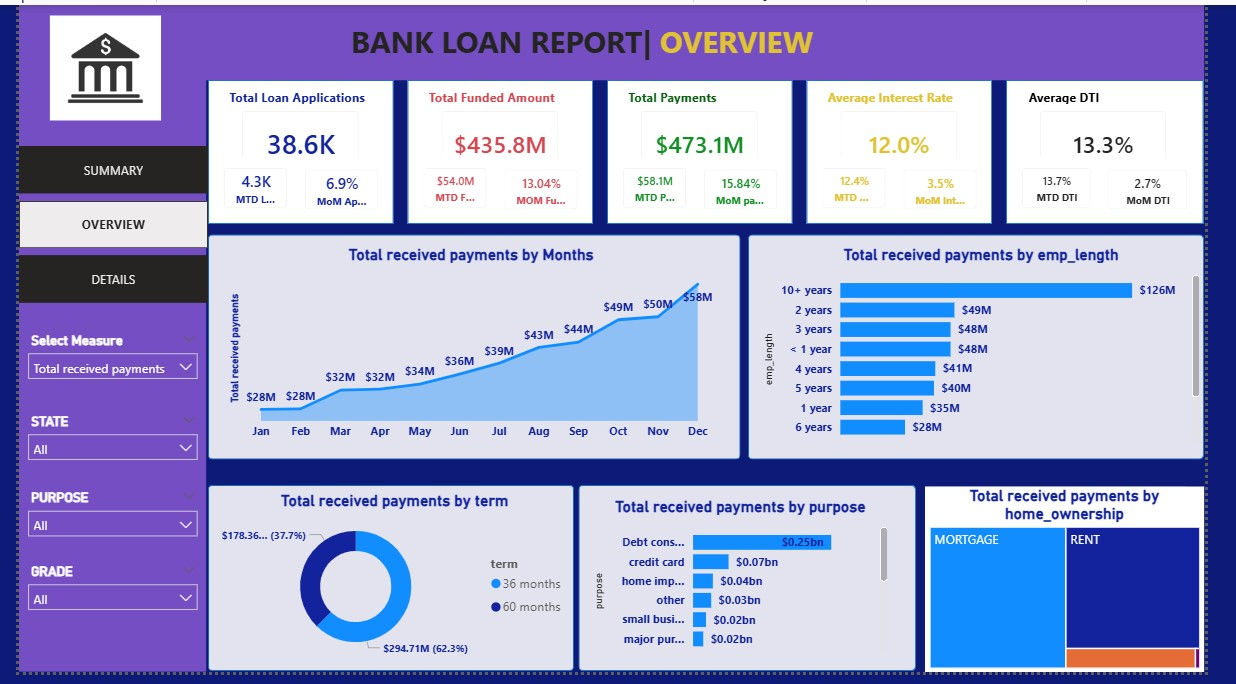

This screenshot's page, from the dashboard's own definition file:
{"tool":"powerbi","page":{"name":"OVERVIEW","canvas":[1280,720],"ordinal":1},"visuals":[{"type":"shape","box":[0,81.3,202.2,638.7],"z":0},{"type":"cardVisual","fields":{"Data":["ANALYSIS.Total Loan Apps"]},"box":[222.9,98,160.6,101],"z":0,"group":"g3"},{"type":"cardVisual","fields":{"Data":["ANALYSIS.Total Funded Amount"]},"box":[438.3,98,160.6,101],"z":0,"group":"g4"},{"type":"cardVisual","fields":{"Data":["ANALYSIS.Total received payments"]},"box":[653.6,98,160.6,101],"z":0,"group":"g5"},{"type":"cardVisual","fields":{"Data":["ANALYSIS.AVERAGE Interest Rate"]},"box":[869,98,160.6,101],"z":0,"group":"g6"},{"type":"cardVisual","fields":{"Data":["ANALYSIS.Average Dti"]},"box":[1085.6,98,171,101],"z":0,"group":"g7"},{"type":"shape","box":[0,0,1279.4,81.3],"z":1000},{"type":"textbox","box":[222,84.7,166.8,28],"z":1000,"group":"g3"},{"type":"textbox","box":[437.4,84.7,166.8,28],"z":1000,"group":"g4"},{"type":"textbox","box":[652.7,84.7,166.8,28],"z":1000,"group":"g5"},{"type":"textbox","box":[868.1,84.7,166.8,28],"z":1000,"group":"g6"},{"type":"textbox","box":[1084.7,84.7,177.5,28],"z":1000,"group":"g7"},{"type":"textbox","box":[353.4,11.3,521.6,60.5],"z":2000},{"type":"cardVisual","fields":{"Data":["ANALYSIS.MTD Loan Apps"]},"box":[204.2,159.2,102,77.2],"z":2000,"group":"g3"},{"type":"cardVisual","fields":{"Data":["ANALYSIS.MTD Funded Amount"]},"box":[419.6,159.2,102,77.2],"z":2000,"group":"g4"},{"type":"cardVisual","fields":{"Data":["ANALYSIS.MTD Payments"]},"box":[634.9,159.2,102,77.2],"z":2000,"group":"g5"},{"type":"cardVisual","fields":{"Data":["ANALYSIS.MTD Avg Interest"]},"box":[850.3,159.2,102,77.2],"z":2000,"group":"g6"},{"type":"cardVisual","fields":{"Data":["ANALYSIS.MTD DTI"]},"box":[1065.7,159.2,108.6,77.2],"z":2000,"group":"g7"},{"type":"group","id":"g1","title":"Group 2","box":[204,81,200.8,157.1],"z":3000},{"type":"shape","box":[204,81,200.3,155.3],"z":3000,"group":"g1"},{"type":"shape","box":[419.4,81,200.3,155.3],"z":3000,"group":"g2"},{"type":"shape","box":[634.7,81,200.3,155.3],"z":3000,"group":"g8"},{"type":"shape","box":[850.1,81,200.3,155.3],"z":3000,"group":"g9"},{"type":"shape","box":[1065.5,81,213.2,155.3],"z":3000,"group":"g10"},{"type":"cardVisual","fields":{"Data":["ANALYSIS.MoM Apps"]},"box":[291.6,160.6,113.3,77.2],"z":3000,"group":"g3"},{"type":"cardVisual","fields":{"Data":["ANALYSIS.MOM Funded Amount"]},"box":[507,160.6,113.3,77.2],"z":3000,"group":"g4"},{"type":"cardVisual","fields":{"Data":["ANALYSIS.MoM payments"]},"box":[722.3,160.6,113.3,77.2],"z":3000,"group":"g5"},{"type":"cardVisual","fields":{"Data":["ANALYSIS.MoM Interest Rate"]},"box":[937.7,160.6,113.3,77.2],"z":3000,"group":"g6"},{"type":"cardVisual","fields":{"Data":["ANALYSIS.MoM DTI"]},"box":[1158.8,160.6,120.7,77.2],"z":3000,"group":"g7"},{"type":"group","id":"g2","title":"Group 2","box":[419.4,81,200.8,157.1],"z":4000},{"type":"group","id":"g3","title":"Group 1","box":[204.2,84.7,200.8,153.1],"z":4005,"group":"g1"},{"type":"group","id":"g4","title":"Group 1","box":[419.6,84.7,200.8,153.1],"z":4005,"group":"g2"},{"type":"group","id":"g5","title":"Group 1","box":[634.9,84.7,200.8,153.1],"z":4005,"group":"g8"},{"type":"group","id":"g6","title":"Group 1","box":[850.3,84.7,200.8,153.1],"z":4005,"group":"g9"},{"type":"group","id":"g7","title":"Group 1","box":[1065.7,84.7,213.7,153.1],"z":4005,"group":"g10"},{"type":"group","id":"g8","title":"Group 2","box":[634.7,81,200.8,157.1],"z":5000},{"type":"group","id":"g9","title":"Group 2","box":[850.1,81,200.8,157.1],"z":6000},{"type":"group","id":"g10","title":"Group 2","box":[1065.5,81,213.7,157.1],"z":7000},{"type":"slicer","fields":{"Values":["loan.address_state"]},"box":[0,435.6,202.4,61.5],"z":8000},{"type":"slicer","fields":{"Values":["loan.grade"]},"box":[0,597.5,202.4,61.5],"z":9000},{"type":"slicer","fields":{"Values":["loan.purpose"]},"box":[0,518.2,202.4,61.5],"z":10000},{"type":"shape","box":[204,247.7,574.8,242.9],"z":11000},{"type":"lineChart","fields":{"Y":["ANALYSIS.Total received payments"],"Category":["DATE table.Months"]},"box":[221.8,259.1,532.7,218.6],"z":12000},{"type":"slicer","fields":{"Values":["Select Measure.Select Measure"]},"box":[0,348.1,202.4,74.5],"z":13000},{"type":"shape","box":[204,518.2,395.1,200.8],"z":14000},{"type":"donutChart","fields":{"Y":["ANALYSIS.Total received payments"],"Category":["loan.term"]},"box":[212.1,524.6,387,186.2],"z":15000},{"type":"shape","box":[786.9,247.7,492.2,242.9],"z":16000},{"type":"clusteredBarChart","fields":{"Y":["ANALYSIS.Total received payments"],"Category":["loan.emp_length"]},"box":[798.3,259.1,480.9,218.6],"z":17000},{"type":"shape","box":[604,518.2,364.3,200.8],"z":18000},{"type":"clusteredBarChart","fields":{"Y":["ANALYSIS.Total received payments"],"Category":["loan.purpose"]},"box":[615.3,531.1,327.1,174.9],"z":19000},{"type":"shape","box":[978,519.8,285,200.8],"z":20000},{"type":"treemap","fields":{"Values":["ANALYSIS.Total received payments"],"Group":["loan.home_ownership"]},"box":[978,519.8,301.2,200.8],"z":21000},{"type":"pageNavigator","box":[0,152.2,204,171.6],"z":21001},{"type":"image","box":[0,11.3,186.2,113.3],"z":21002}]}

Visuals, with their boxes in screenshot pixels (x1, y1, x2, y2), scaled from the page's 1280x720 canvas onto the 1236x684 screenshot:
shape: [0, 77, 195, 683]
cardVisual - ANALYSIS.Total Loan Apps: [215, 93, 370, 189]
cardVisual - ANALYSIS.Total Funded Amount: [423, 93, 578, 189]
cardVisual - ANALYSIS.Total received payments: [631, 93, 786, 189]
cardVisual - ANALYSIS.AVERAGE Interest Rate: [839, 93, 994, 189]
cardVisual - ANALYSIS.Average Dti: [1048, 93, 1213, 189]
shape: [0, 0, 1235, 77]
textbox: [214, 80, 375, 107]
textbox: [422, 80, 583, 107]
textbox: [630, 80, 791, 107]
textbox: [838, 80, 999, 107]
textbox: [1047, 80, 1219, 107]
textbox: [341, 11, 845, 68]
cardVisual - ANALYSIS.MTD Loan Apps: [197, 151, 296, 225]
cardVisual - ANALYSIS.MTD Funded Amount: [405, 151, 504, 225]
cardVisual - ANALYSIS.MTD Payments: [613, 151, 712, 225]
cardVisual - ANALYSIS.MTD Avg Interest: [821, 151, 920, 225]
cardVisual - ANALYSIS.MTD DTI: [1029, 151, 1134, 225]
"Group 2" group: [197, 77, 391, 226]
shape: [197, 77, 390, 224]
shape: [405, 77, 598, 224]
shape: [613, 77, 806, 224]
shape: [821, 77, 1014, 224]
shape: [1029, 77, 1235, 224]
cardVisual - ANALYSIS.MoM Apps: [282, 153, 391, 226]
cardVisual - ANALYSIS.MOM Funded Amount: [490, 153, 599, 226]
cardVisual - ANALYSIS.MoM payments: [697, 153, 807, 226]
cardVisual - ANALYSIS.MoM Interest Rate: [905, 153, 1015, 226]
cardVisual - ANALYSIS.MoM DTI: [1119, 153, 1235, 226]
"Group 2" group: [405, 77, 599, 226]
"Group 1" group: [197, 80, 391, 226]
"Group 1" group: [405, 80, 599, 226]
"Group 1" group: [613, 80, 807, 226]
"Group 1" group: [821, 80, 1015, 226]
"Group 1" group: [1029, 80, 1235, 226]
"Group 2" group: [613, 77, 807, 226]
"Group 2" group: [821, 77, 1015, 226]
"Group 2" group: [1029, 77, 1235, 226]
slicer - loan.address_state: [0, 414, 195, 472]
slicer - loan.grade: [0, 568, 195, 626]
slicer - loan.purpose: [0, 492, 195, 551]
shape: [197, 235, 752, 466]
lineChart - ANALYSIS.Total received payments x DATE table.Months: [214, 246, 729, 454]
slicer - Select Measure.Select Measure: [0, 331, 195, 401]
shape: [197, 492, 579, 683]
donutChart - ANALYSIS.Total received payments x loan.term: [205, 498, 579, 675]
shape: [760, 235, 1235, 466]
clusteredBarChart - ANALYSIS.Total received payments x loan.emp_length: [771, 246, 1235, 454]
shape: [583, 492, 935, 683]
clusteredBarChart - ANALYSIS.Total received payments x loan.purpose: [594, 505, 910, 671]
shape: [944, 494, 1220, 683]
treemap - ANALYSIS.Total received payments x loan.home_ownership: [944, 494, 1235, 683]
pageNavigator: [0, 145, 197, 308]
image: [0, 11, 180, 118]
